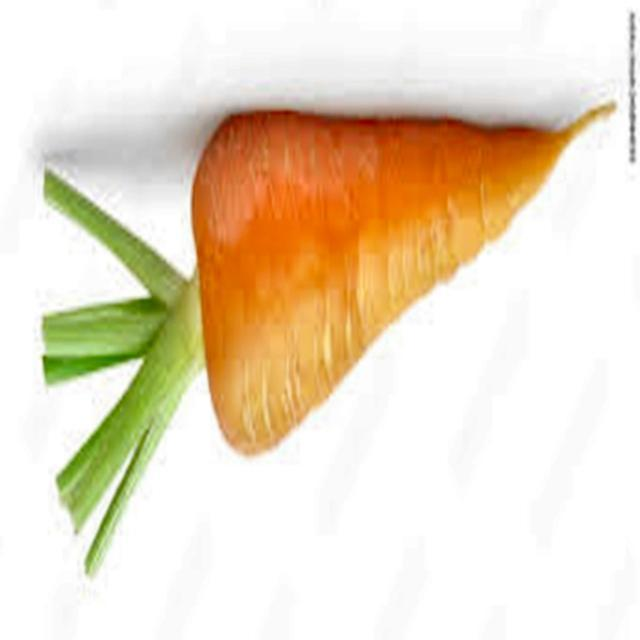carrot: (42, 104, 614, 572)
